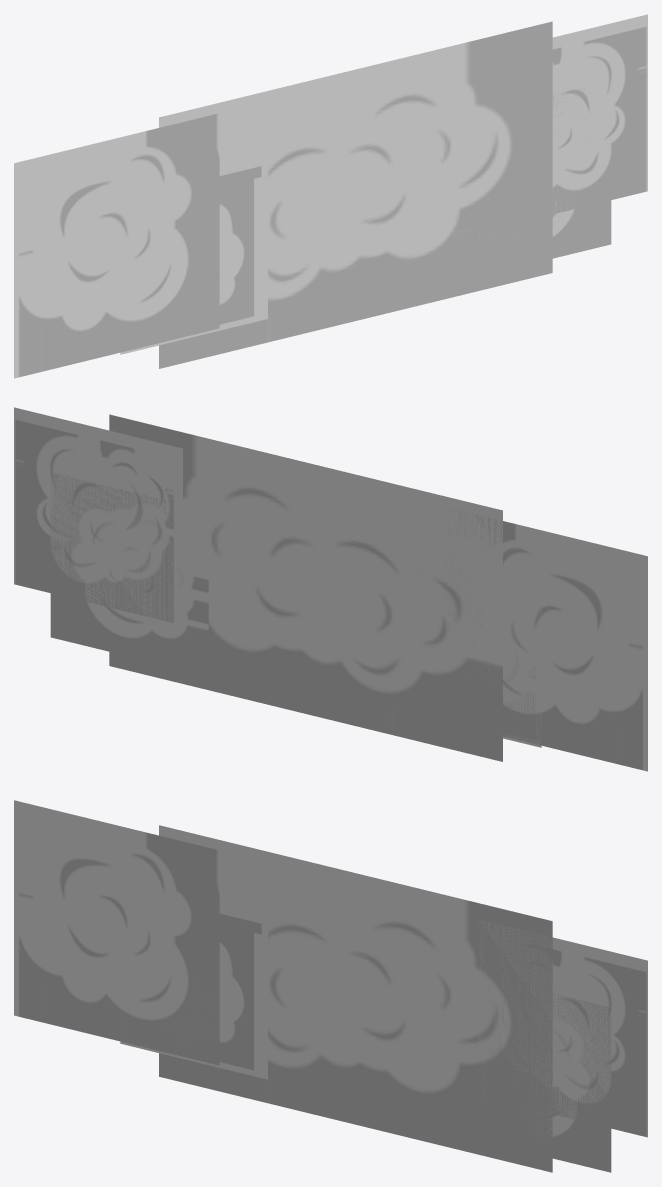
The model's file is puff_balk_143.glb.
3 views of the same model, one above another, from view 1: azimuth 30°, elevation 25°; view 2: azimuth 150°, elevation 25°; view 3: azimuth 330°, elevation 25° (orthographic).
Visible parts, largest first — view 1: puff8, puff1, puff2, puff5, puff3; view 2: puff8, puff1, puff2, puff3, puff5; view 3: puff8, puff1, puff2, puff3, puff5.
Part boxes in pixels (x1=…): puff8: x1=159, y1=21, x2=552, y2=368; puff1: x1=14, y1=113, x2=219, y2=378; puff2: x1=552, y1=14, x2=647, y2=214; puff5: x1=120, y1=164, x2=267, y2=354; puff3: x1=453, y1=89, x2=611, y2=282; puff8: x1=109, y1=414, x2=502, y2=761; puff1: x1=444, y1=510, x2=647, y2=771; puff2: x1=14, y1=407, x2=182, y2=625; puff3: x1=50, y1=472, x2=208, y2=675; puff5: x1=402, y1=565, x2=541, y2=747; puff8: x1=159, y1=825, x2=552, y2=1172; puff1: x1=14, y1=800, x2=219, y2=1065; puff2: x1=479, y1=920, x2=647, y2=1137; puff3: x1=497, y1=988, x2=611, y2=1172; puff5: x1=120, y1=913, x2=267, y2=1079.
Size of the model in its own units: 83.19 by 31.54 by 4.52e-06.
Materials: 1 (1 with a texture image).
